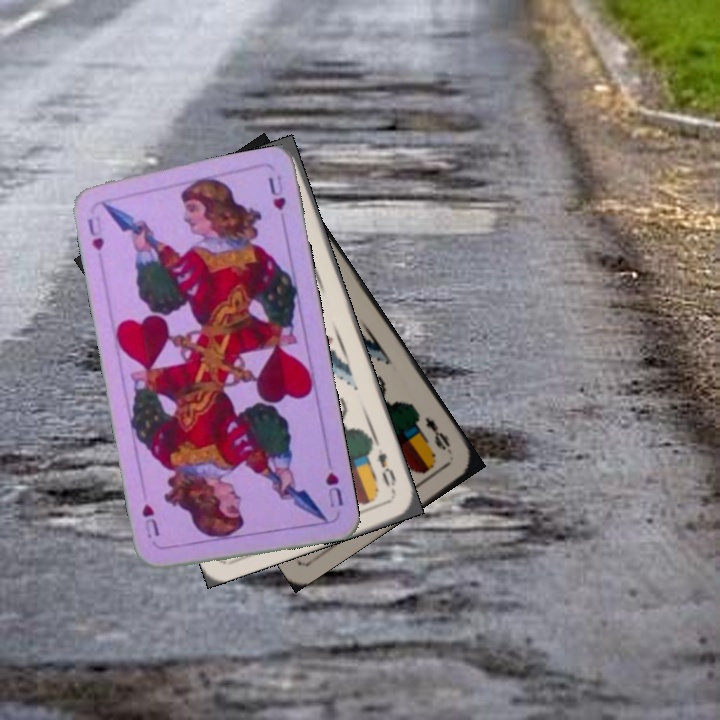EO: (421, 413, 456, 458), (373, 445, 399, 496)
HU: (83, 212, 109, 253), (321, 468, 346, 510)
